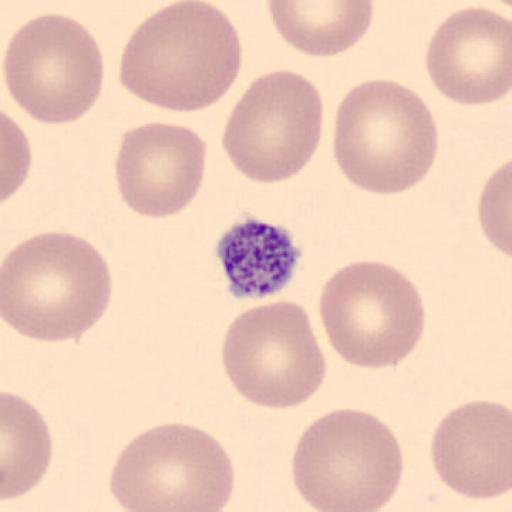Platelet: (216, 214, 305, 300)
RBC: (118, 0, 245, 114), (1, 230, 114, 344), (330, 78, 438, 196), (220, 68, 324, 186), (318, 258, 426, 371), (290, 406, 405, 512), (220, 298, 328, 410), (108, 420, 236, 512), (3, 11, 105, 126), (114, 120, 208, 220), (424, 5, 512, 106), (429, 397, 512, 500), (266, 0, 374, 58), (1, 390, 54, 501), (478, 156, 512, 260), (1, 109, 32, 204)
